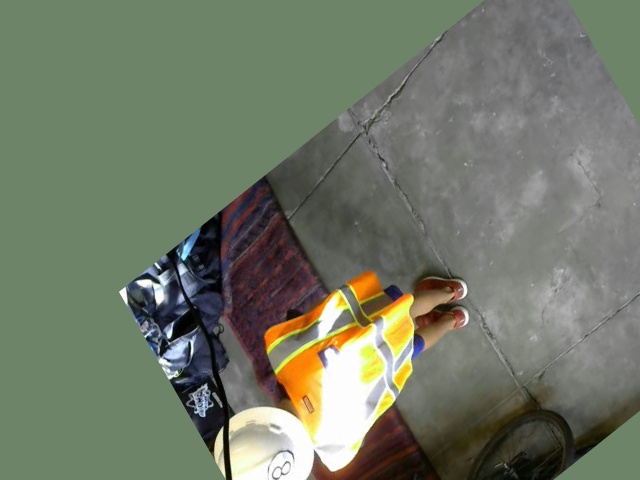eight: (259, 442, 303, 479)
